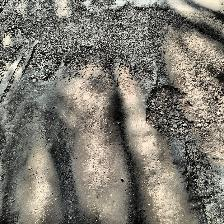pothole: (143, 83, 199, 135)
